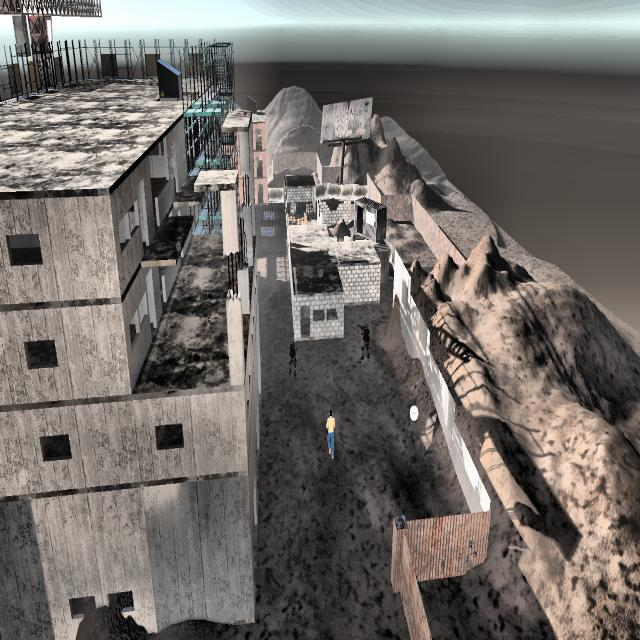bad: (356, 319, 374, 367), (285, 334, 299, 382)
good: (320, 405, 341, 468)
